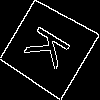K: (24, 23, 80, 77)
